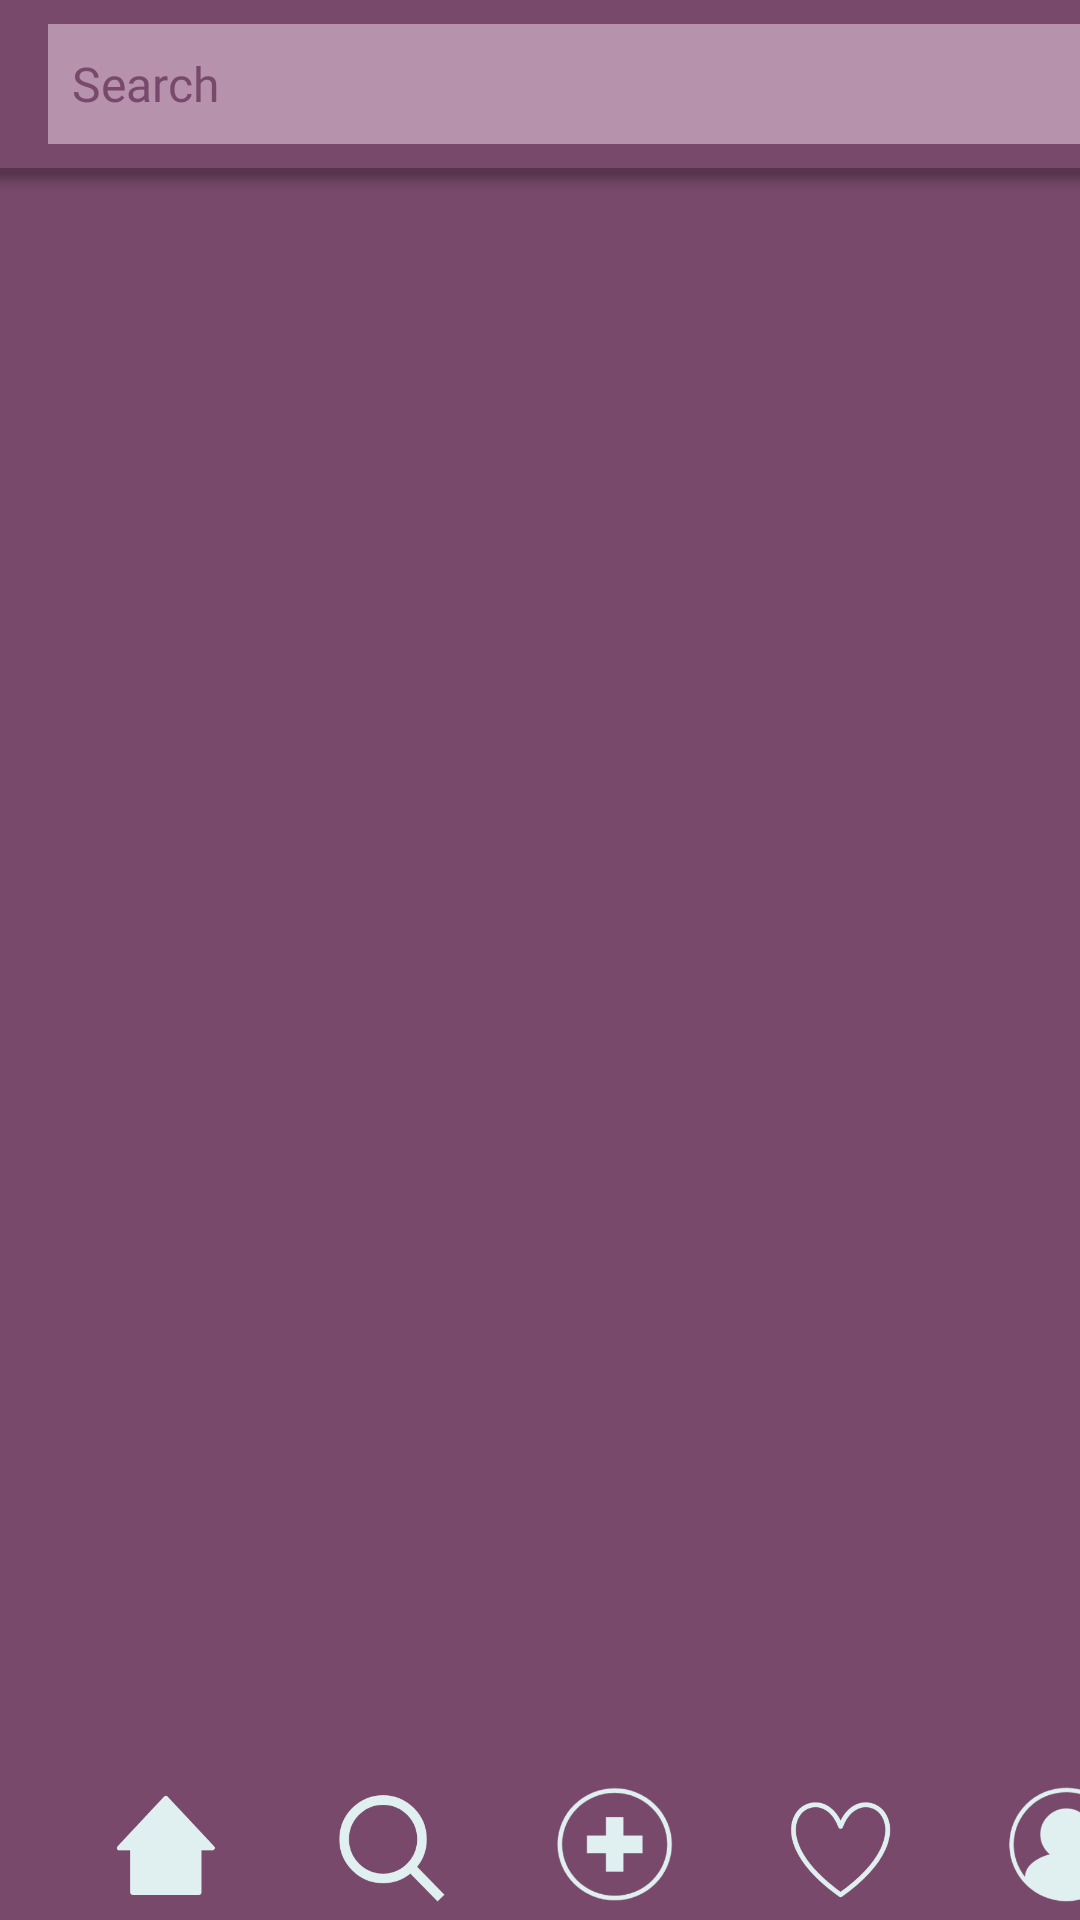

Where to tap for icons on this 1080px x 1920px app screen, as point (x, y):
add: point (614, 1844)
home: point (166, 1845)
search: point (392, 1848)
